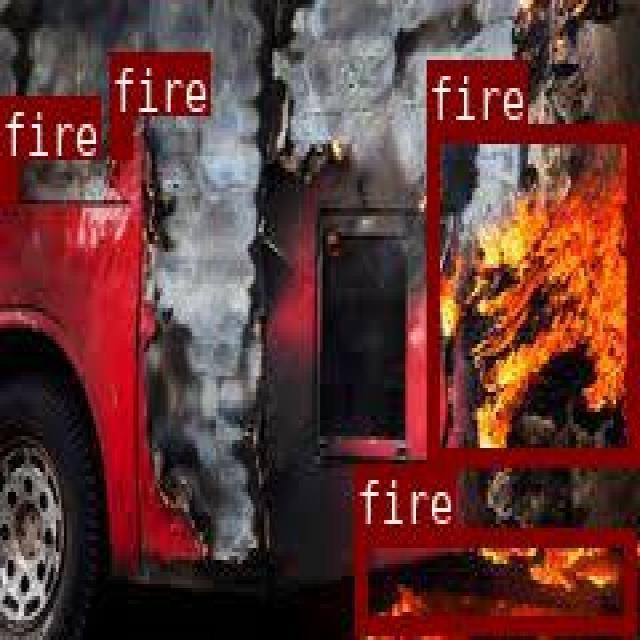fire: (425, 123, 635, 460), (353, 528, 633, 632), (109, 115, 129, 154), (0, 158, 16, 202)
